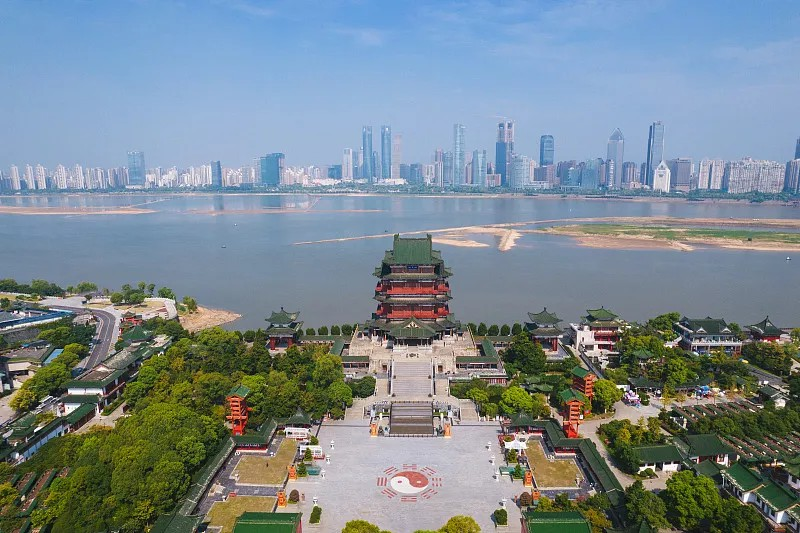Teng: (357, 233, 468, 346)
